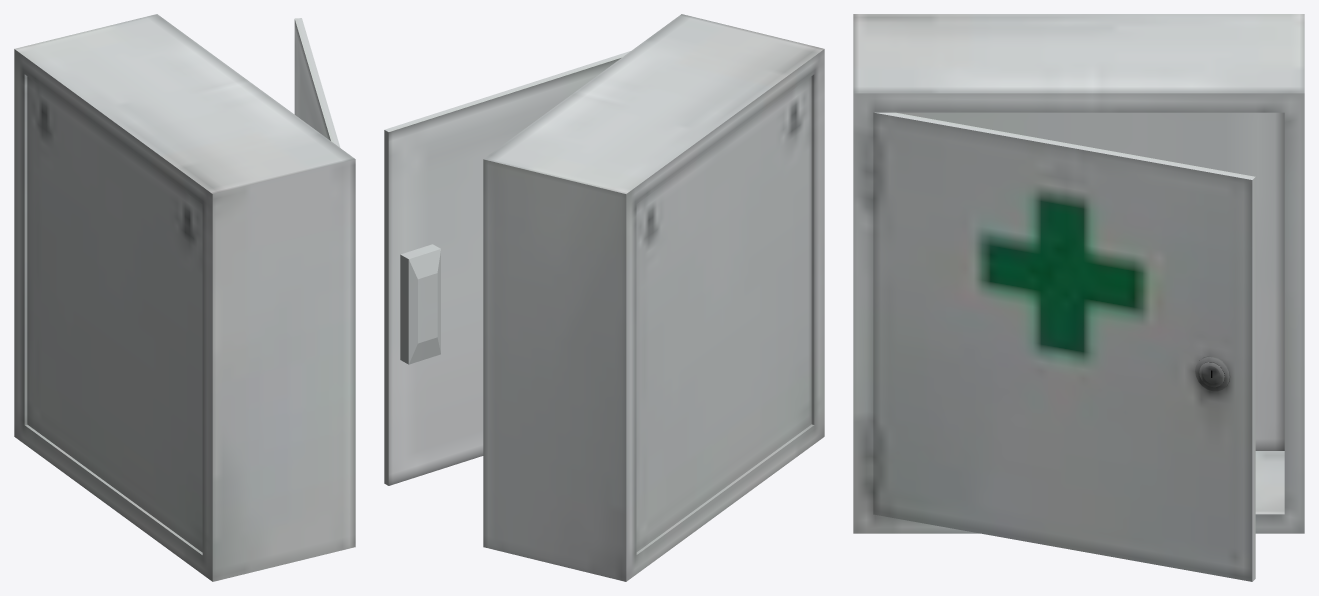
File: first_aid_cabinet.glb
3 views of the same model, side by side, from view 1: azimuth 30°, elevation 25°; view 2: azimuth 150°, elevation 25°; view 3: azimuth 270°, elevation 25° (orthographic). The views are drawn at different scales.
Visible parts, largest first — view 1: Box, Door; view 2: Box, Door; view 3: Door, Box.
Boxes of the visible parts, box(x1,y1,x2,y2) form: Box: box(14, 14, 355, 581); Door: box(294, 18, 340, 147); Box: box(483, 14, 824, 581); Door: box(384, 51, 630, 485); Door: box(873, 112, 1255, 581); Box: box(853, 14, 1304, 533).
Bounding box in the file's own units: 0.9967 × 1.39 × 1.29.
Materials: 1 (1 with a texture image).
